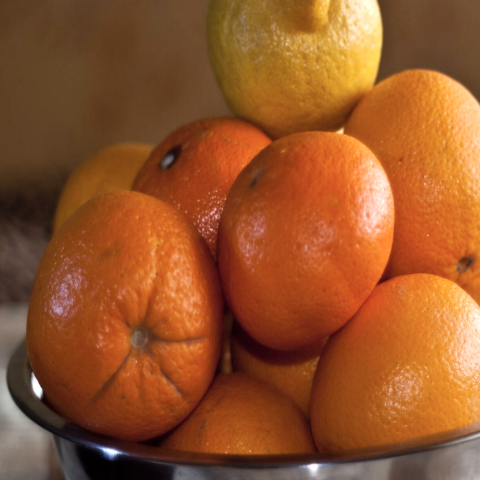orange: (16, 183, 227, 460), (199, 87, 399, 361)
